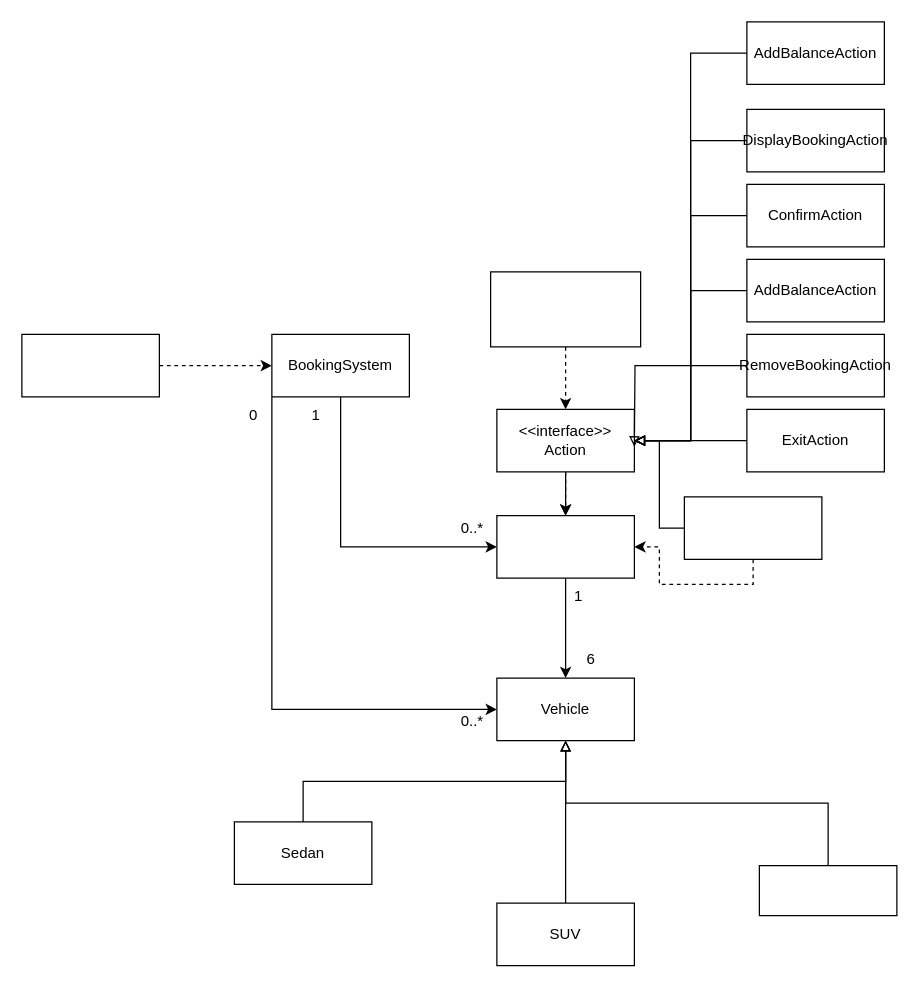
This 919x988 diagram has some shape labels left out. Each missing label, with the centre of its shape:
"AddBookingAction" goes at pixel 752 527.
"Application" goes at pixel 90 365.
"Booking" goes at pixel 565 546.
"Menu" goes at pixel 565 309.
"Truck" goes at pixel 827 890.
